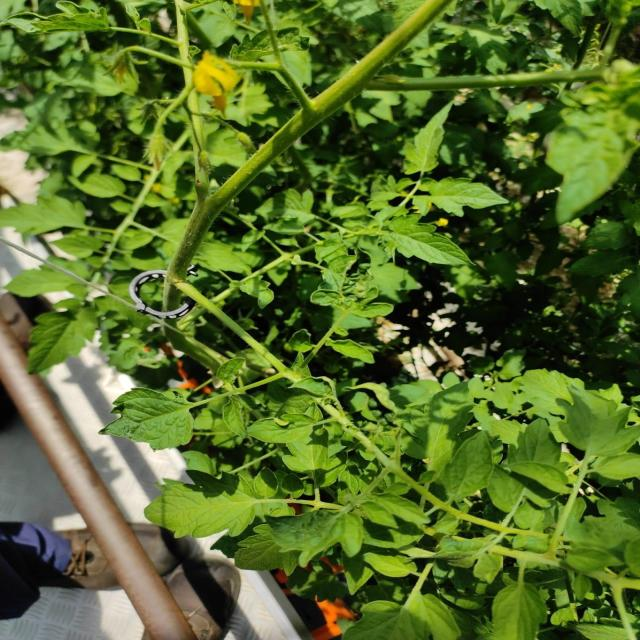T_L_H: (147, 482, 256, 536), (29, 299, 103, 373), (106, 391, 195, 450), (388, 214, 470, 265), (408, 179, 509, 213), (405, 109, 449, 174)
T_S_H: (173, 1, 452, 280)
